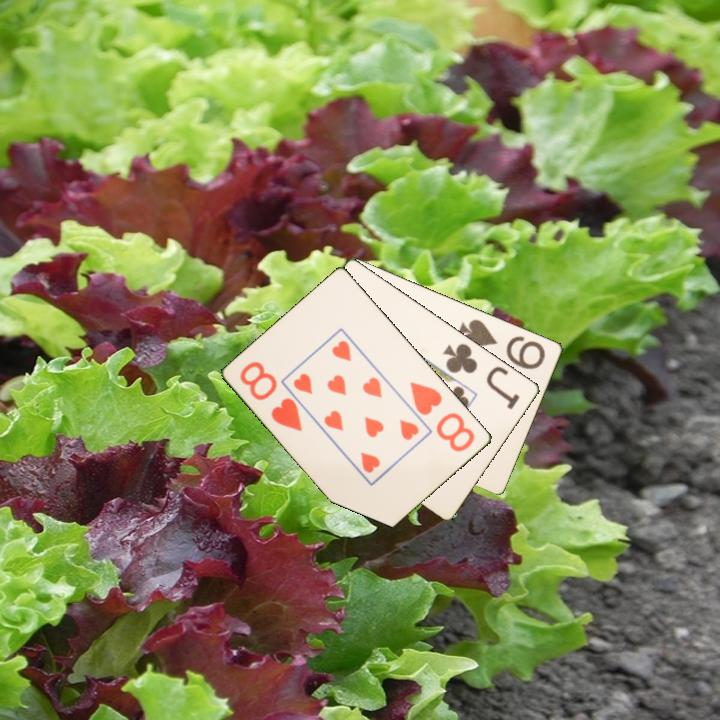8h: (407, 378, 478, 455), (236, 358, 306, 434)
9s: (455, 315, 549, 372)
Jc: (440, 339, 523, 412)
